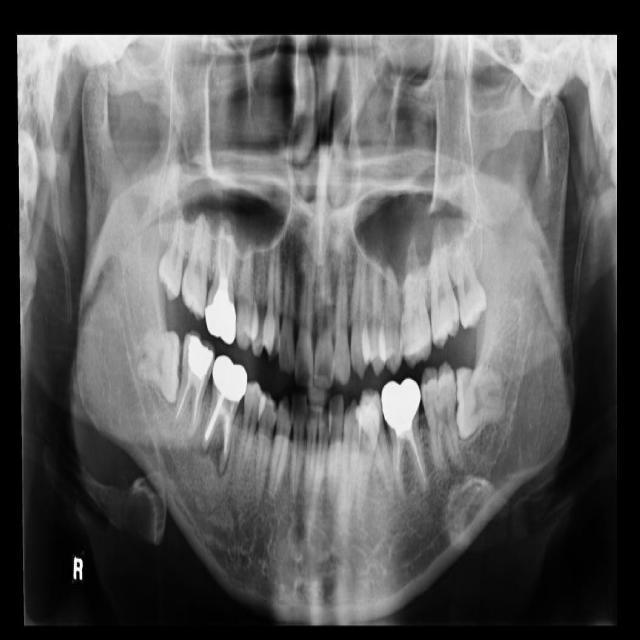3M ESPE Implant: (157, 217, 186, 302)
52: (171, 328, 226, 382), (205, 353, 254, 404), (377, 375, 425, 427), (205, 285, 236, 345)
73: (195, 385, 243, 473), (383, 413, 429, 499), (169, 367, 209, 440), (210, 218, 238, 301)
BioHorizons Implant: (428, 219, 461, 347)
BioLife Implant: (448, 227, 490, 329)
Biomet 3i Implant: (455, 365, 506, 439)
Blue Sky Bio Implant: (419, 360, 463, 470)
Caries: (179, 213, 215, 322)
Implant: (170, 329, 218, 441)
Keystone Dental Implant: (136, 327, 181, 401)
